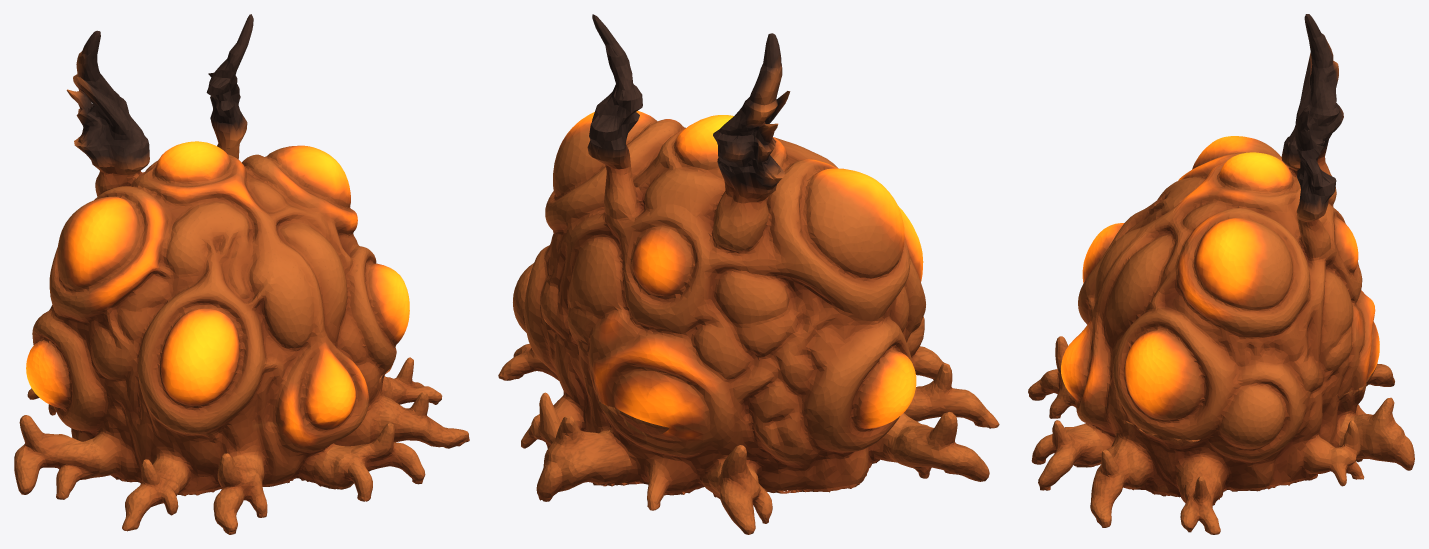
Rendered from aliens-node.glb.
The picture shows the model from 3 angles, left to right: view 1: azimuth 30°, elevation 25°; view 2: azimuth 150°, elevation 25°; view 3: azimuth 270°, elevation 25°; orthographic projection. The views are drawn at different scales.
Visible parts, largest first — view 1: body, foot_07, foot_03, foot_06, foot_05, foot_04; view 2: body, foot_01, foot_03, foot_02, foot_04, foot_05, foot_07; view 3: body, foot_07, foot_01, foot_06, foot_05, foot_02.
Part boxes in pixels (<box>): body: <box>26,14,409,495</box>; foot_07: <box>370,357,469,448</box>; foot_03: <box>14,415,100,499</box>; foot_06: <box>321,422,425,501</box>; foot_05: <box>213,453,267,534</box>; foot_04: <box>122,458,185,531</box>; body: <box>513,14,925,510</box>; foot_01: <box>536,391,669,501</box>; foot_03: <box>893,412,989,481</box>; foot_02: <box>716,445,772,534</box>; foot_04: <box>904,363,999,428</box>; foot_05: <box>907,316,944,380</box>; foot_07: <box>498,344,559,380</box>; body: <box>1061,14,1379,505</box>; foot_07: <box>1090,413,1244,534</box>; foot_01: <box>1338,367,1414,470</box>; foot_06: <box>1031,420,1102,490</box>; foot_05: <box>1028,336,1076,418</box>; foot_02: <box>1366,363,1394,386</box>.
Size of the model in its own units: 1.47 by 1.35 by 1.22.
Materials: 1 (1 with a texture image).
